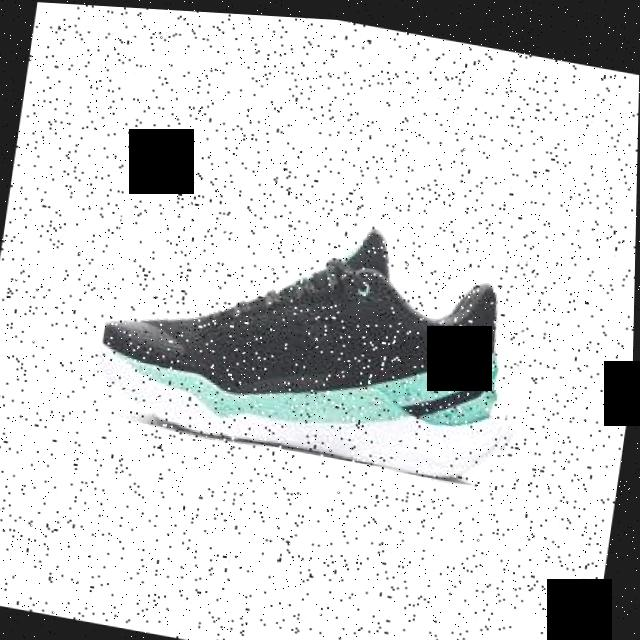shoe: (93, 181, 541, 484)
